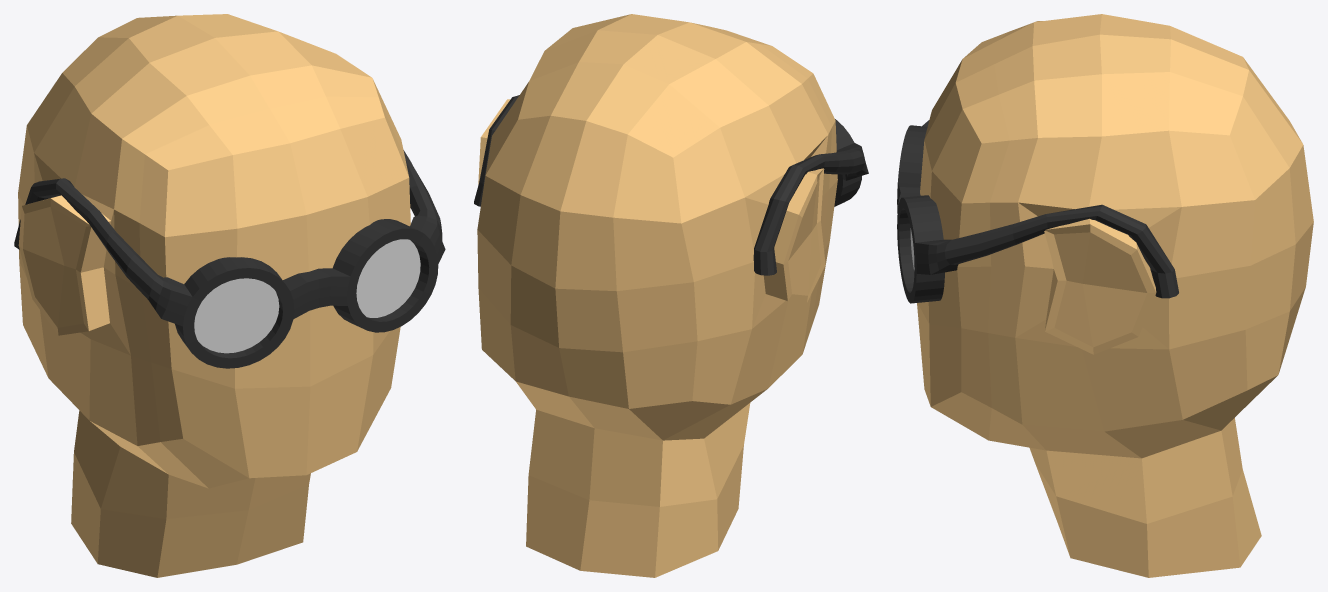
Rendered from HeadShirtTie.fbx.
3 views of the same model, side by side, from view 1: azimuth 30°, elevation 25°; view 2: azimuth 150°, elevation 25°; view 3: azimuth 270°, elevation 25° (orthographic). The views are drawn at different scales.
Parts seen in each view (by area): view 1: ShirtTieHead; view 2: ShirtTieHead; view 3: ShirtTieHead.
Part boxes in pixels (x1=…): ShirtTieHead: x1=14, y1=14, x2=445, y2=577; ShirtTieHead: x1=474, y1=14, x2=868, y2=577; ShirtTieHead: x1=897, y1=14, x2=1313, y2=577.
Bounding box in the file's own units: 62.06 × 92.48 × 67.11.
